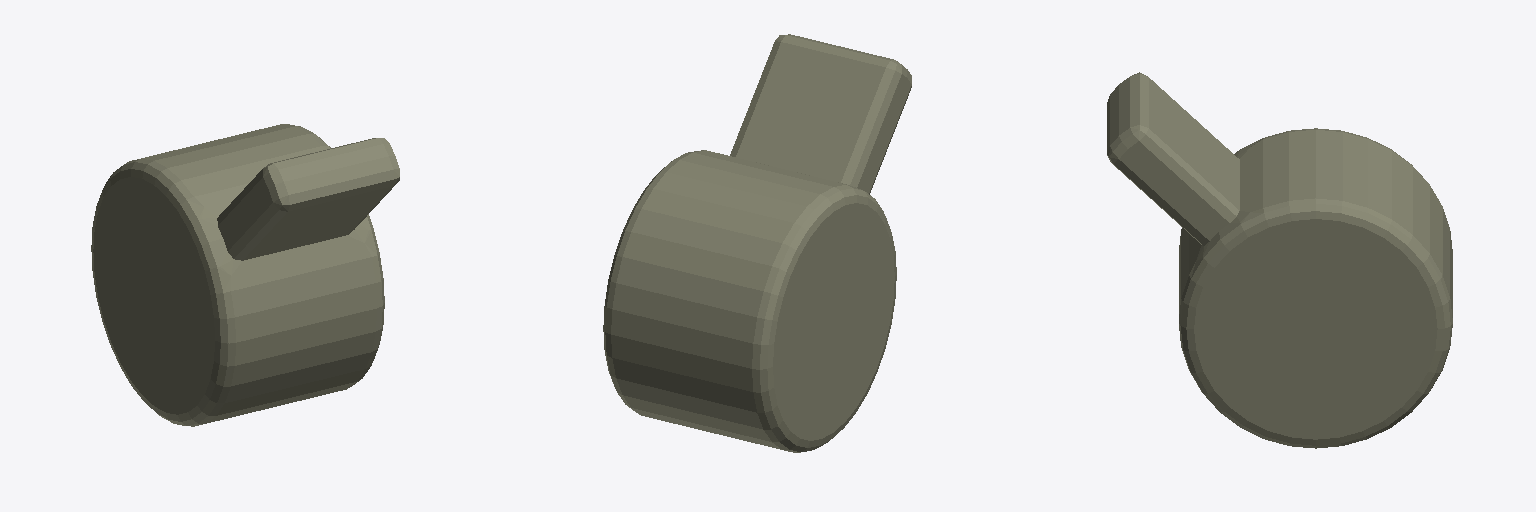
The model's file is lever.obj.
The picture shows the model from 3 angles: view 1: azimuth 30°, elevation 25°; view 2: azimuth 150°, elevation 25°; view 3: azimuth 270°, elevation 25°; orthographic projection.
Parts seen in each view (by area): view 1: Lever; view 2: Lever; view 3: Lever.
Part boxes in pixels (bbox=[...]): Lever: bbox=[91, 124, 399, 426]; Lever: bbox=[603, 34, 911, 452]; Lever: bbox=[1107, 72, 1452, 448].
Size of the model in its own units: 0.055 by 0.0984 by 0.0984.